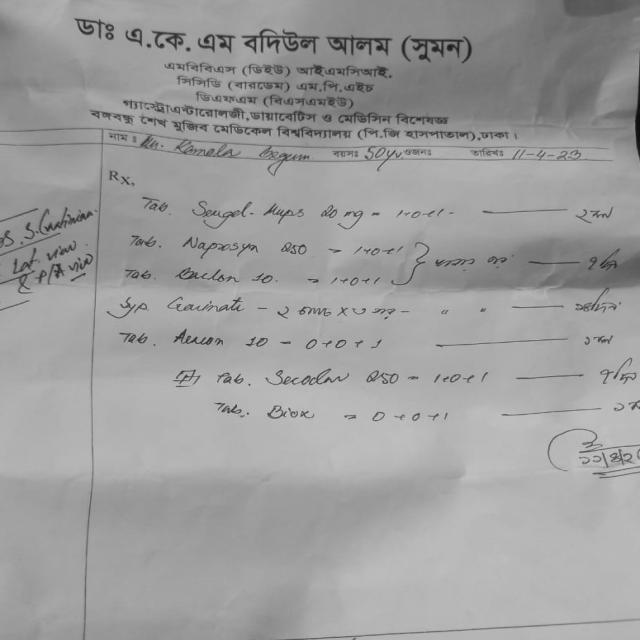medicine: (178, 233, 266, 260), (186, 196, 256, 225), (262, 368, 352, 388), (162, 294, 250, 314), (174, 264, 245, 288), (167, 326, 230, 348), (262, 401, 318, 422)
